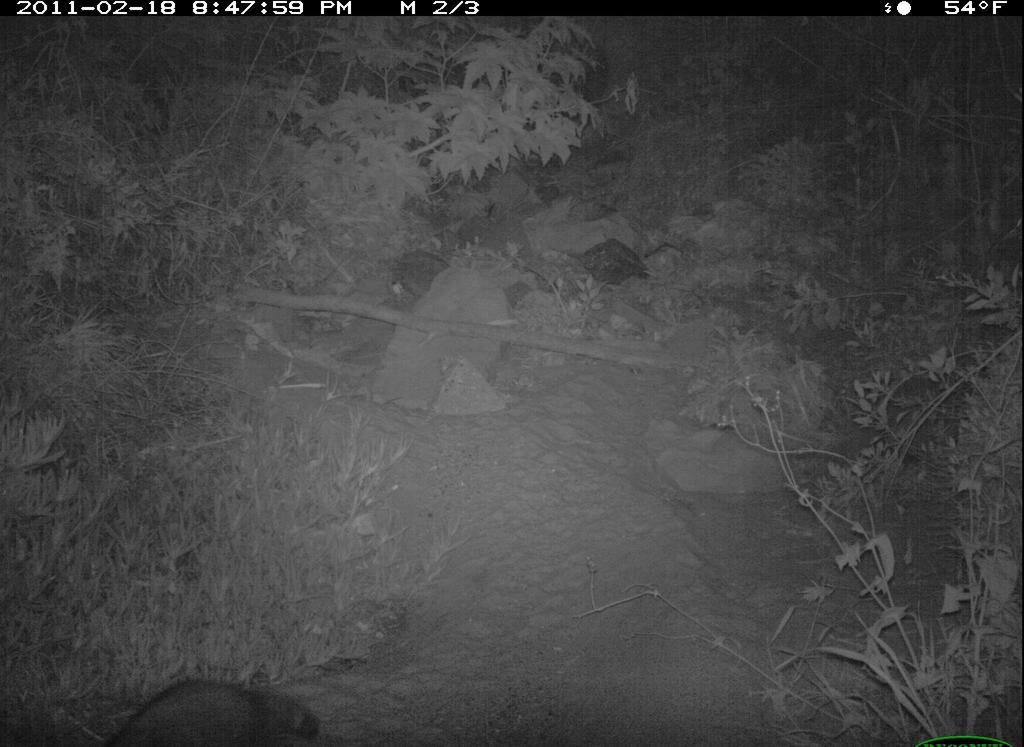raccoon: (79, 669, 365, 740)
